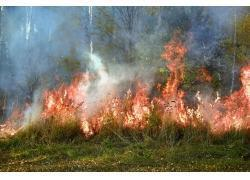fire: (42, 42, 248, 134), (0, 95, 36, 137)
